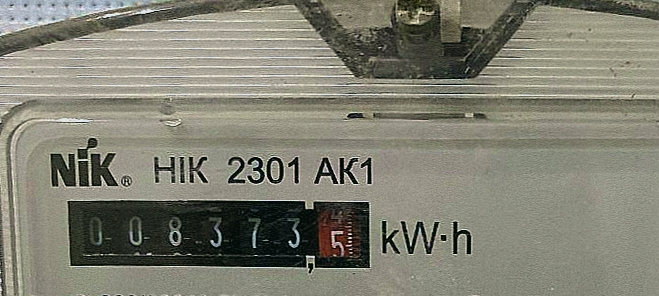0: (87, 213, 108, 250), (127, 213, 147, 249)
3: (284, 215, 307, 252), (206, 214, 228, 251)
4: (330, 207, 348, 227)
5: (330, 228, 350, 258)
7: (246, 213, 265, 252)
8: (166, 213, 188, 249)
screen: (63, 192, 381, 283)
